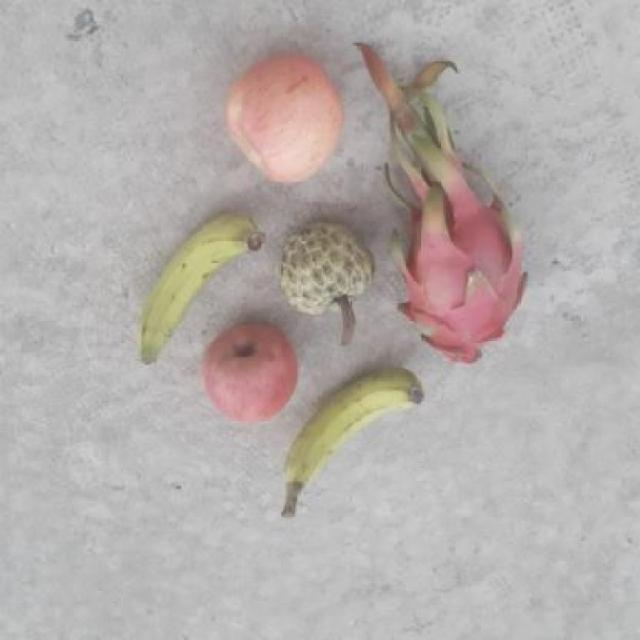apple: (215, 47, 354, 184), (198, 313, 298, 432)
banana: (130, 216, 261, 381), (269, 376, 433, 492)
dragon fruit: (374, 204, 524, 376)
sugar apple: (272, 223, 380, 317)
